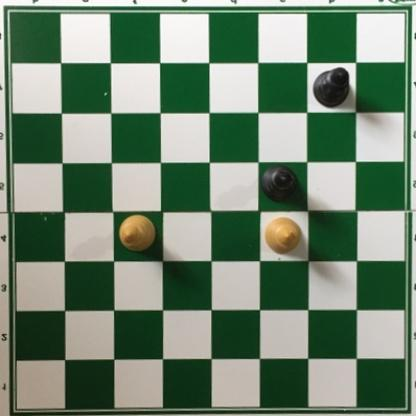black-bishop: (259, 162, 301, 205), (313, 66, 352, 110)
white-bishop: (116, 213, 159, 252), (264, 217, 303, 255)
